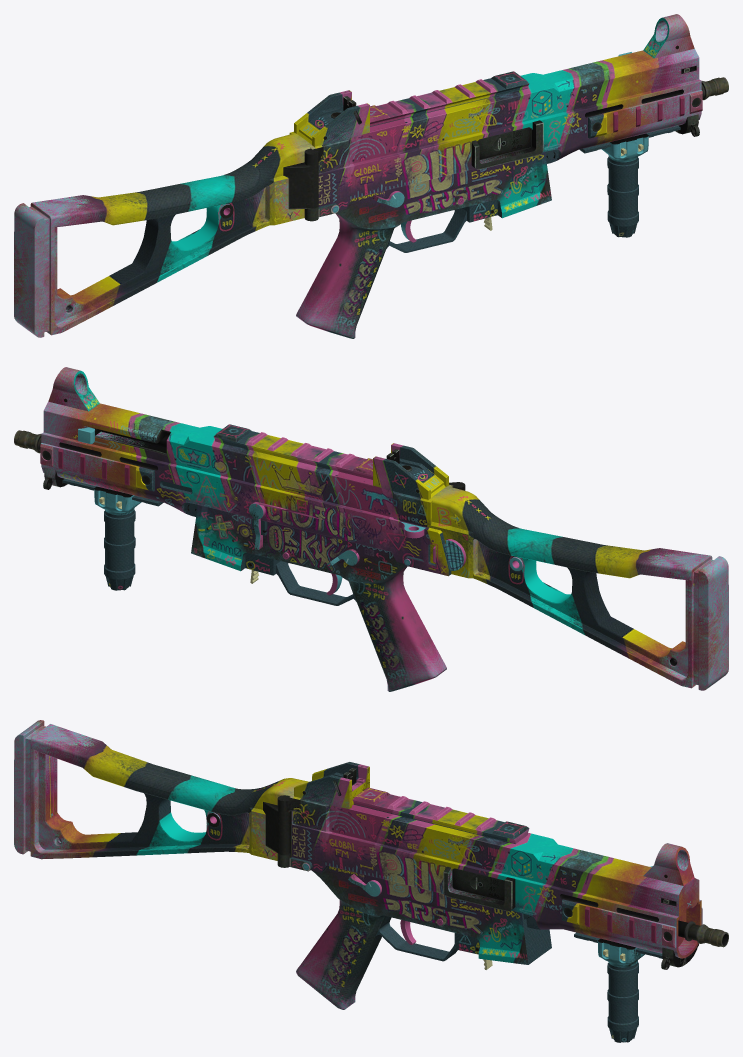
Rendered from w_combatpdw_clutch_kick.glb.
3 renders of one model, top to bottom at view 1: azimuth 30°, elevation 25°; view 2: azimuth 150°, elevation 25°; view 3: azimuth 330°, elevation 25°, orthographic.
Parts seen in each view (by area): view 1: Gun_Root; view 2: Gun_Root; view 3: Gun_Root.
Part boxes in pixels (left/top/right/bottom): Gun_Root: left=14, top=14, right=728, bottom=338; Gun_Root: left=14, top=367, right=728, bottom=691; Gun_Root: left=14, top=720, right=728, bottom=1042.
Size of the model in its own units: 0.7888 by 0.2575 by 0.0747.
1 material, 1 textured.
